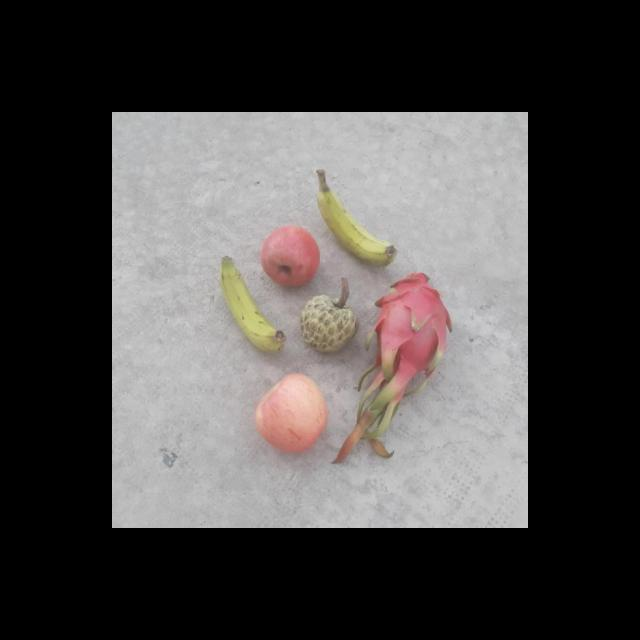Sakya fruit: (296, 292, 361, 351)
apple: (255, 369, 336, 458), (255, 224, 328, 292)
banana: (318, 175, 406, 268), (214, 254, 286, 356)
pitaya: (368, 273, 460, 377)
